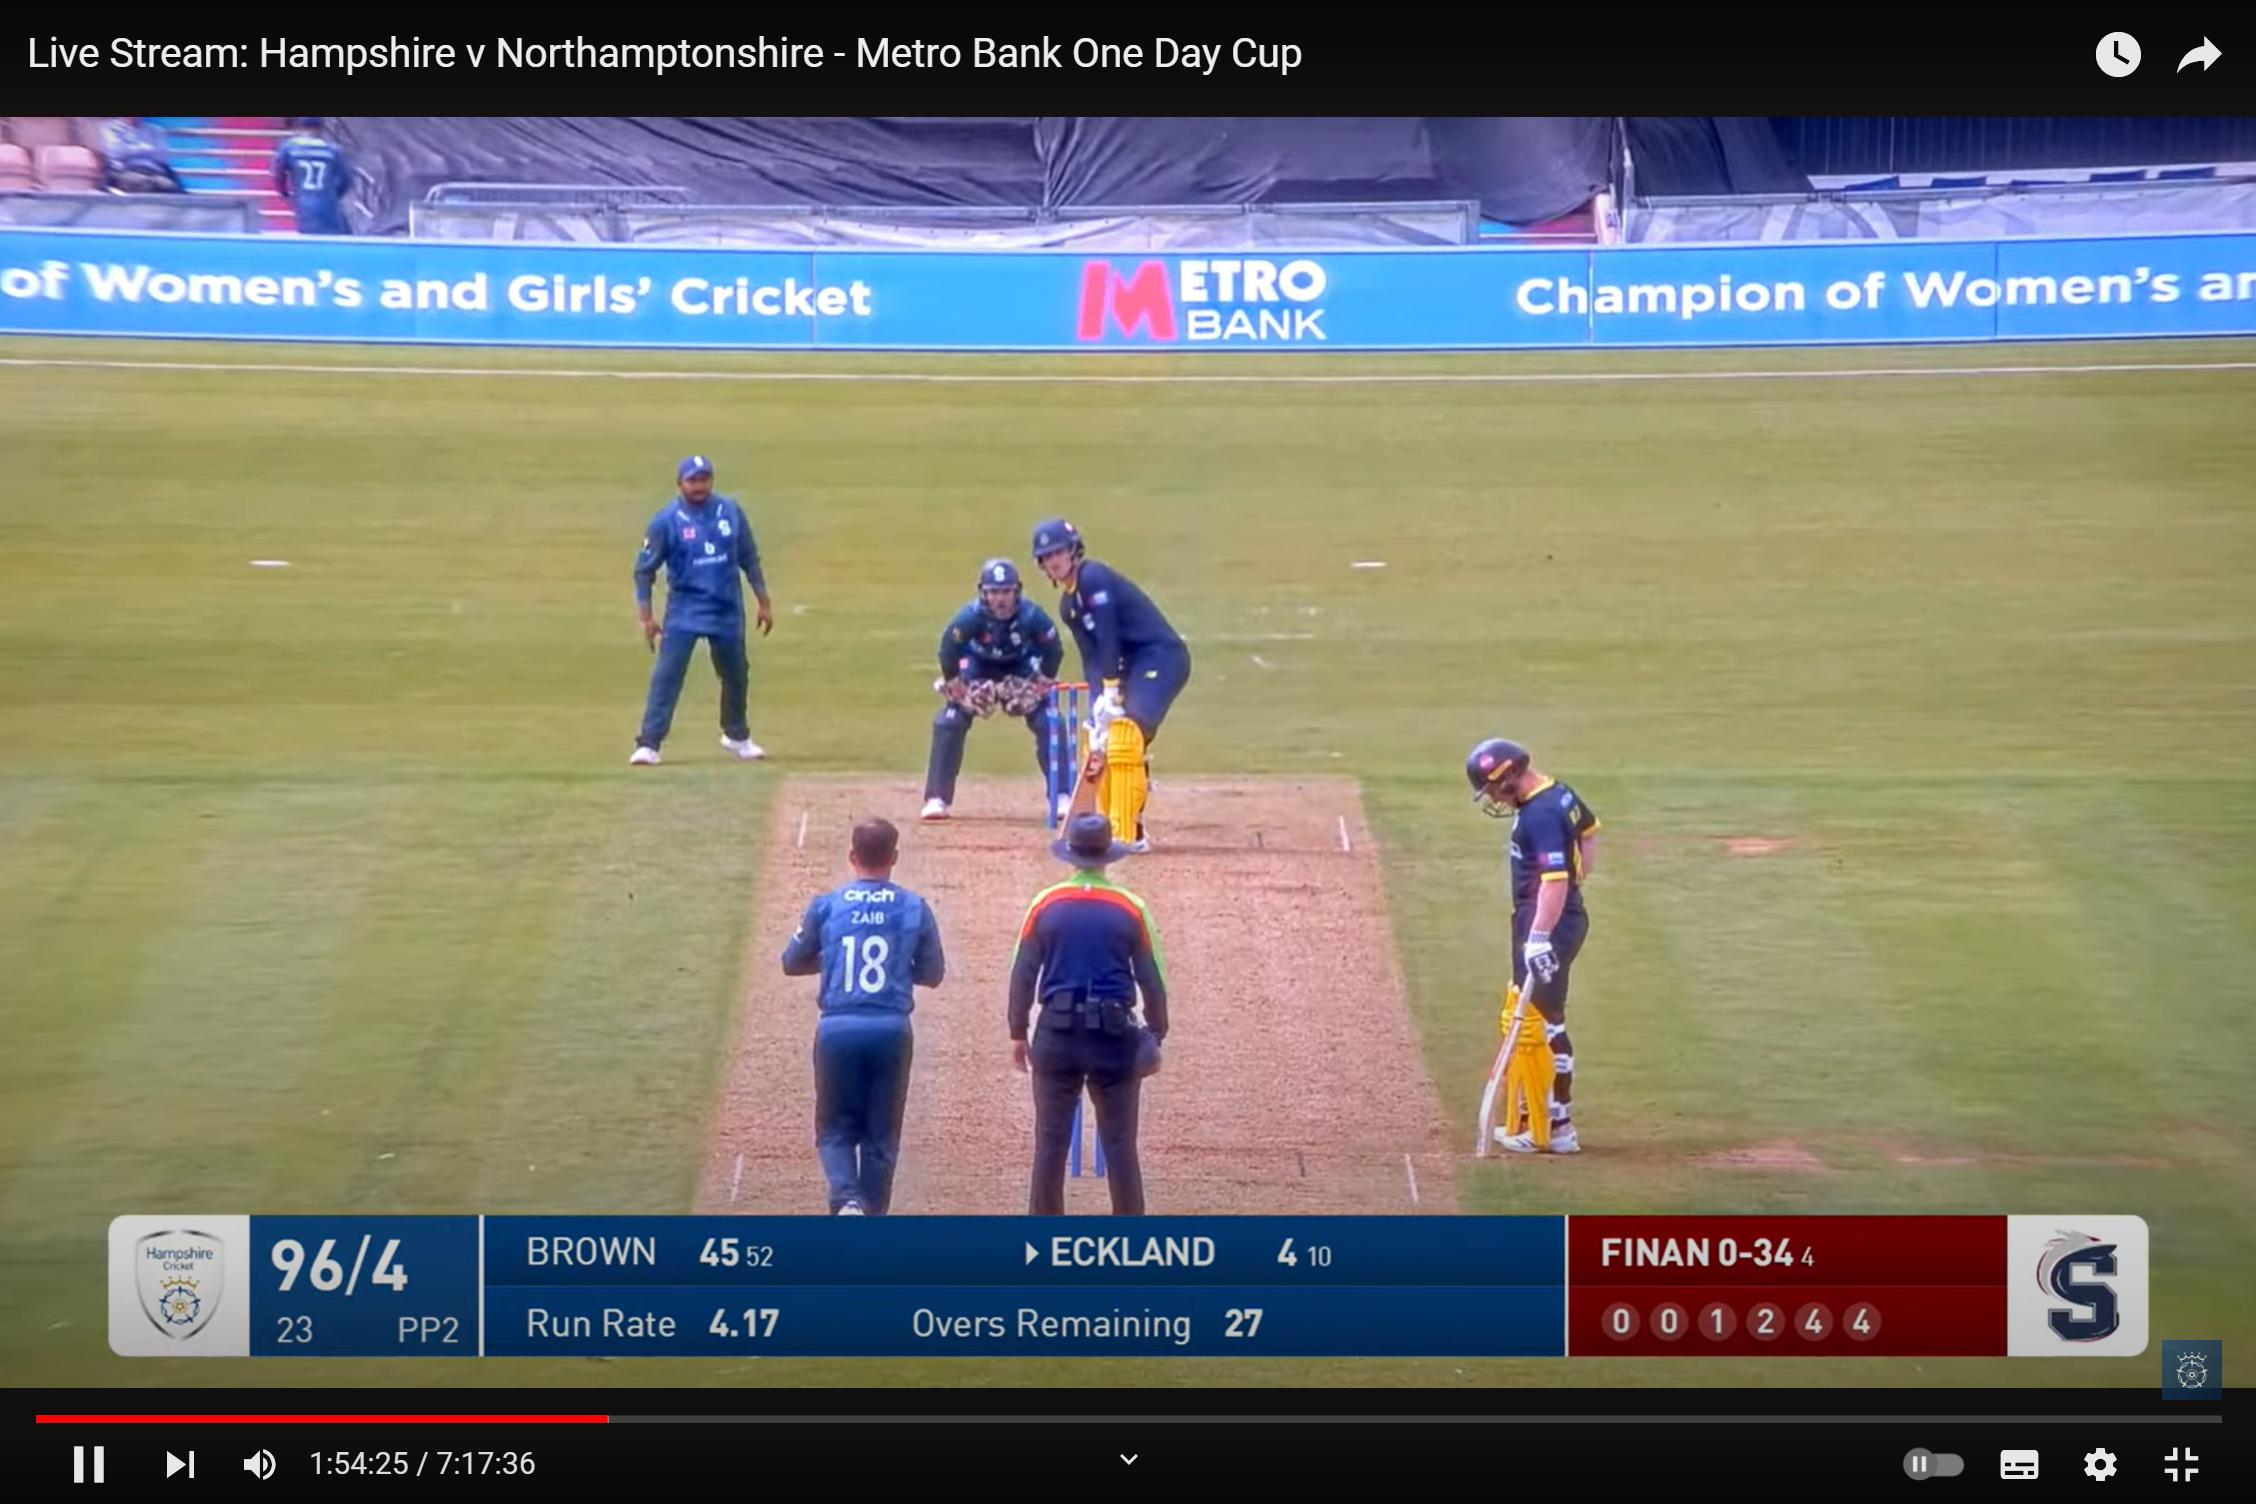batsman: (1017, 509, 1205, 849)
bowler running in: (755, 797, 955, 1197)
non striker: (1417, 730, 1633, 1173)
